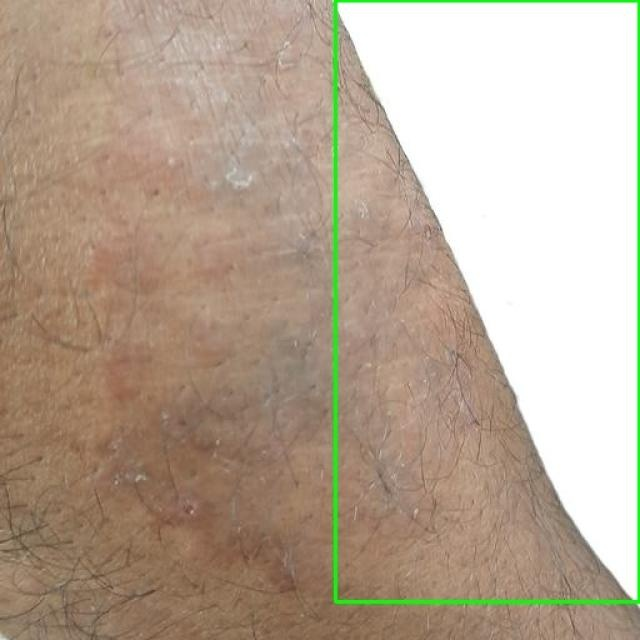Tinea Corporis: (335, 0, 639, 601)
